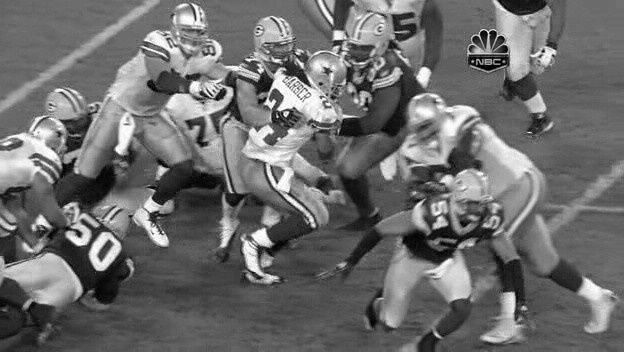person: (315, 51, 351, 96), (314, 51, 350, 96), (316, 51, 352, 96), (315, 50, 351, 95), (315, 52, 351, 97)
target_negative: (447, 42, 509, 315), (258, 255, 559, 305), (204, 302, 521, 345), (322, 159, 523, 225), (27, 15, 191, 40), (303, 295, 362, 331)
